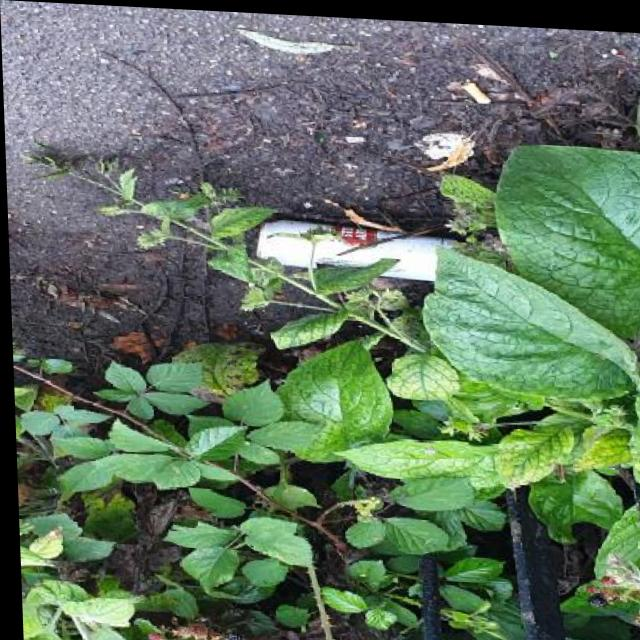metal: (255, 218, 463, 284)
